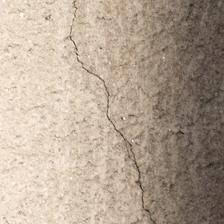Crack: (35, 3, 121, 219)
